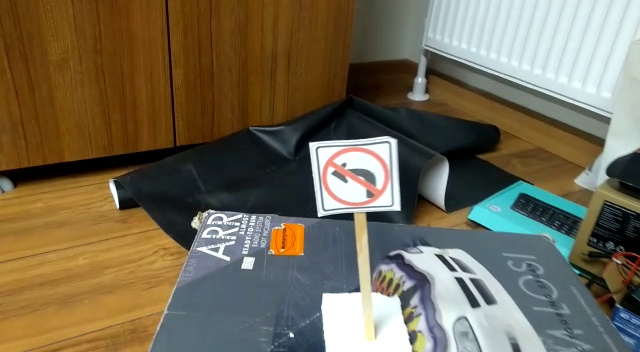sola_donulmez: (321, 142, 391, 211)
